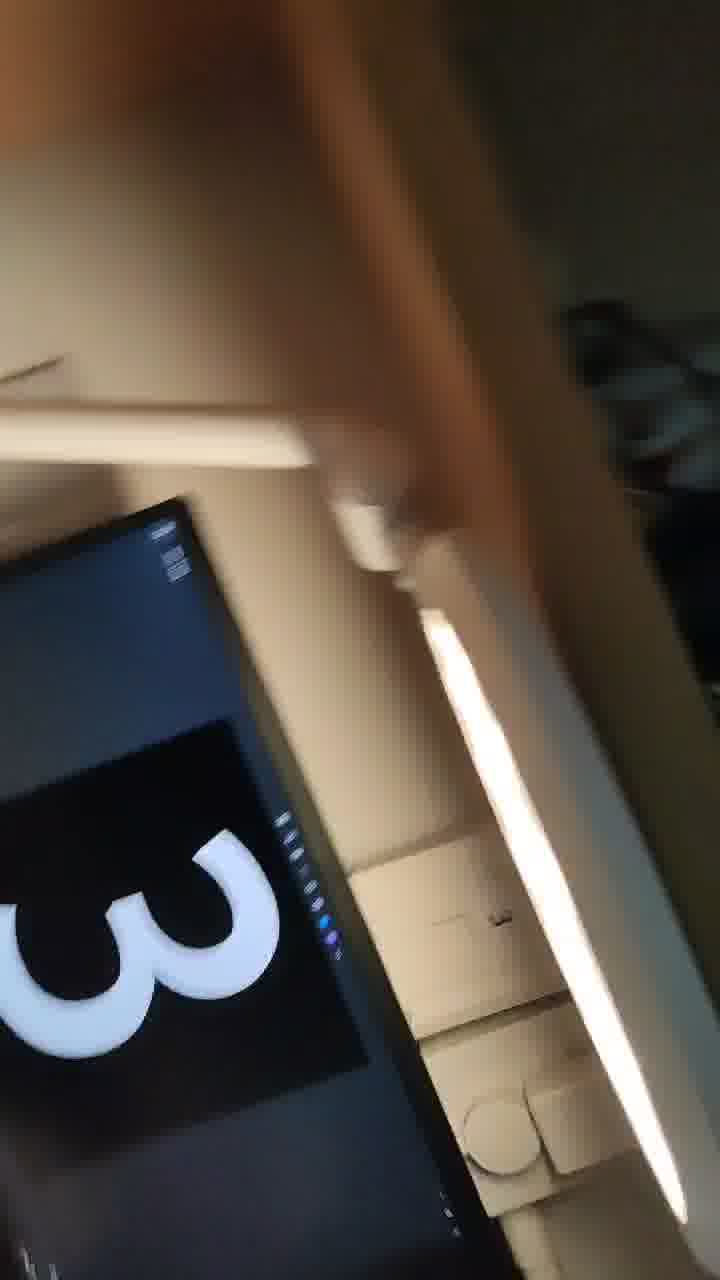three: (1, 663, 279, 1096)
